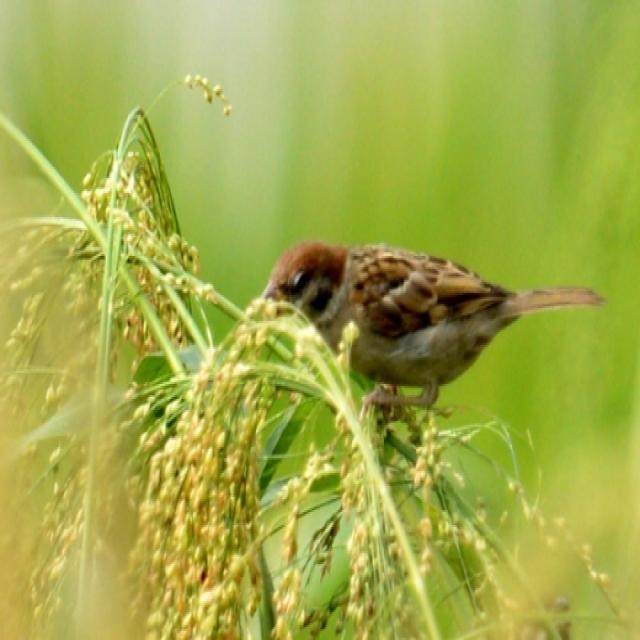bird: (259, 233, 613, 429)
